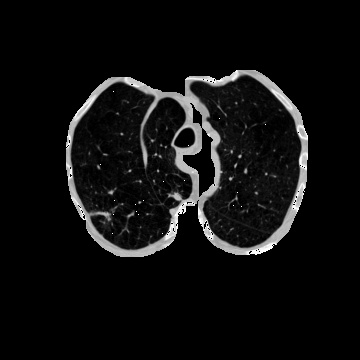PN: (171, 189, 183, 201)
